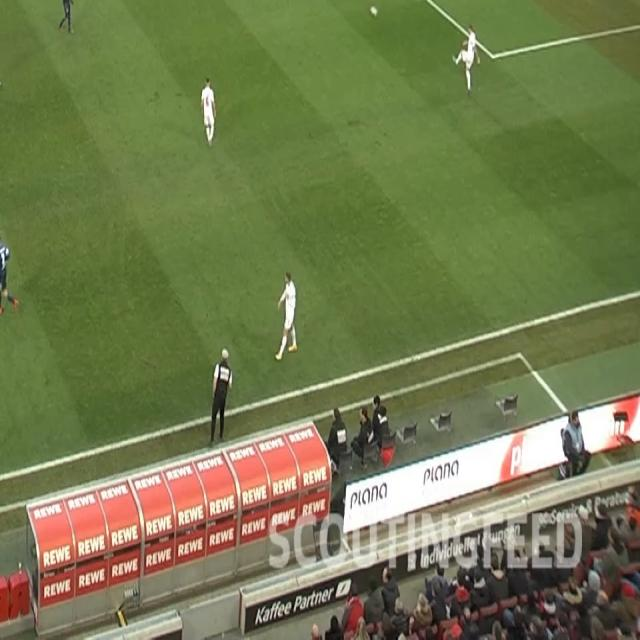ball: (368, 4, 378, 20)
